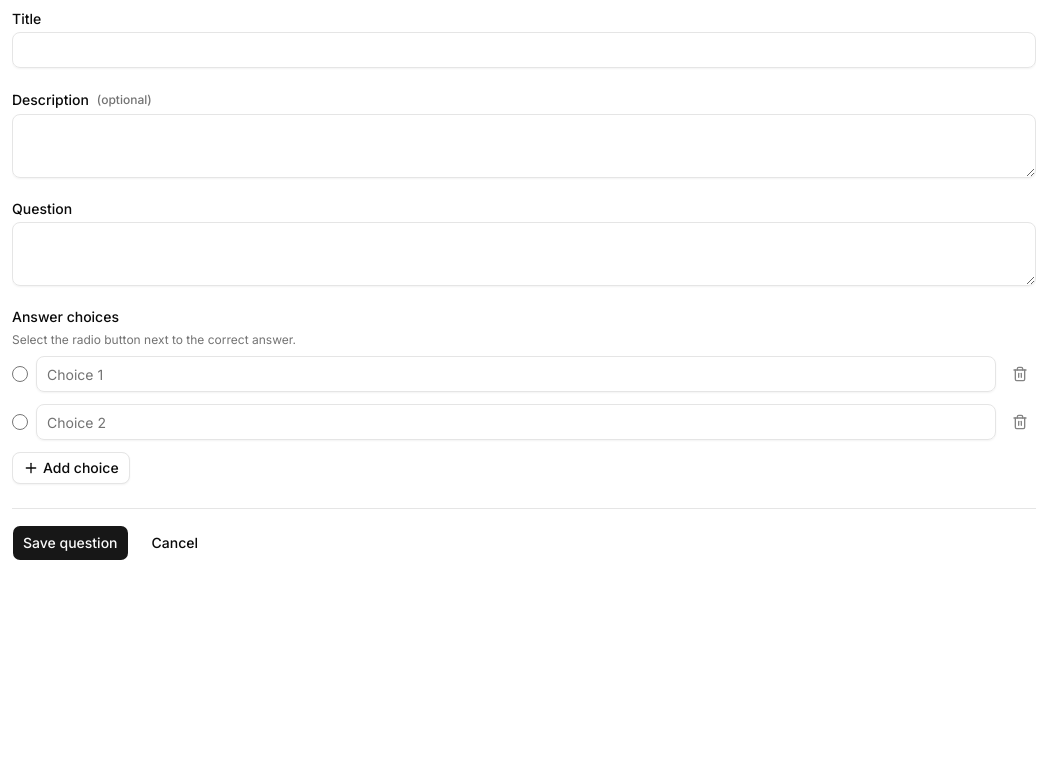
QuestionForm — AnswerChoiceList behaviour › removes a choice when its Remove button is clicked
Step 1. Click the button "Add choice" → (71, 468), box x1=12 y1=452 x2=130 y2=484
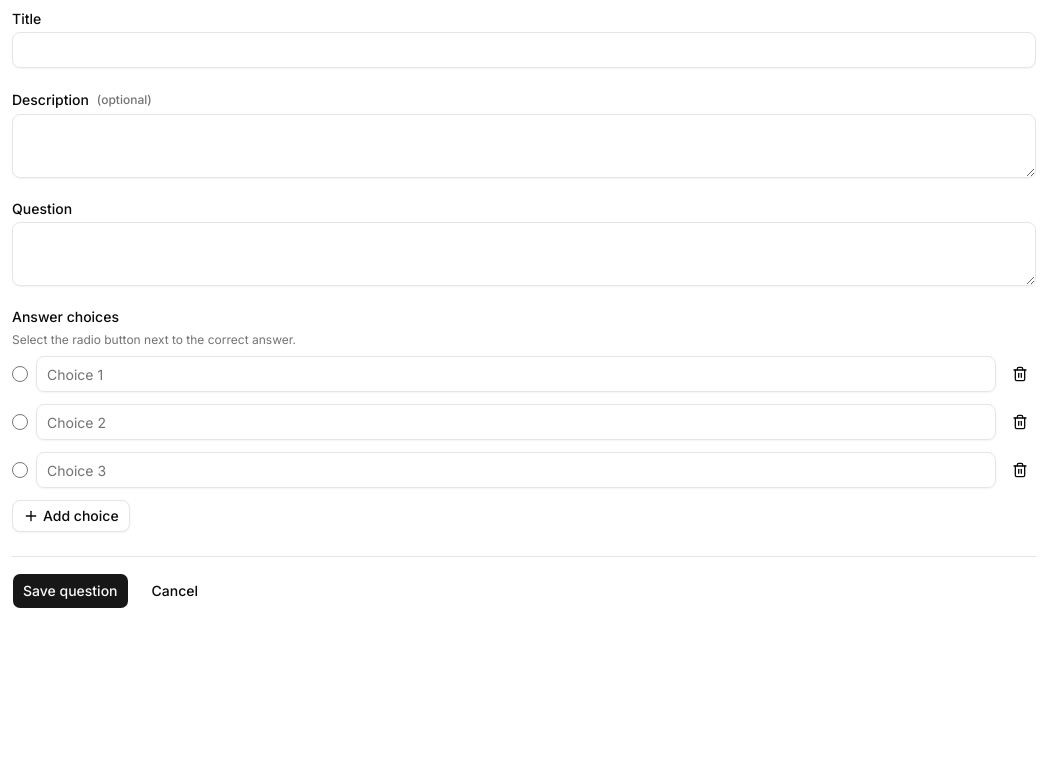
Check: the number of fields labelled "Choice 1" is 3, box x1=36 y1=356 x2=996 y2=392; x1=36 y1=404 x2=996 y2=440; x1=36 y1=452 x2=996 y2=488
Step 2. Click the button named "remove choice" → (1020, 374), box x1=1004 y1=358 x2=1036 y2=390
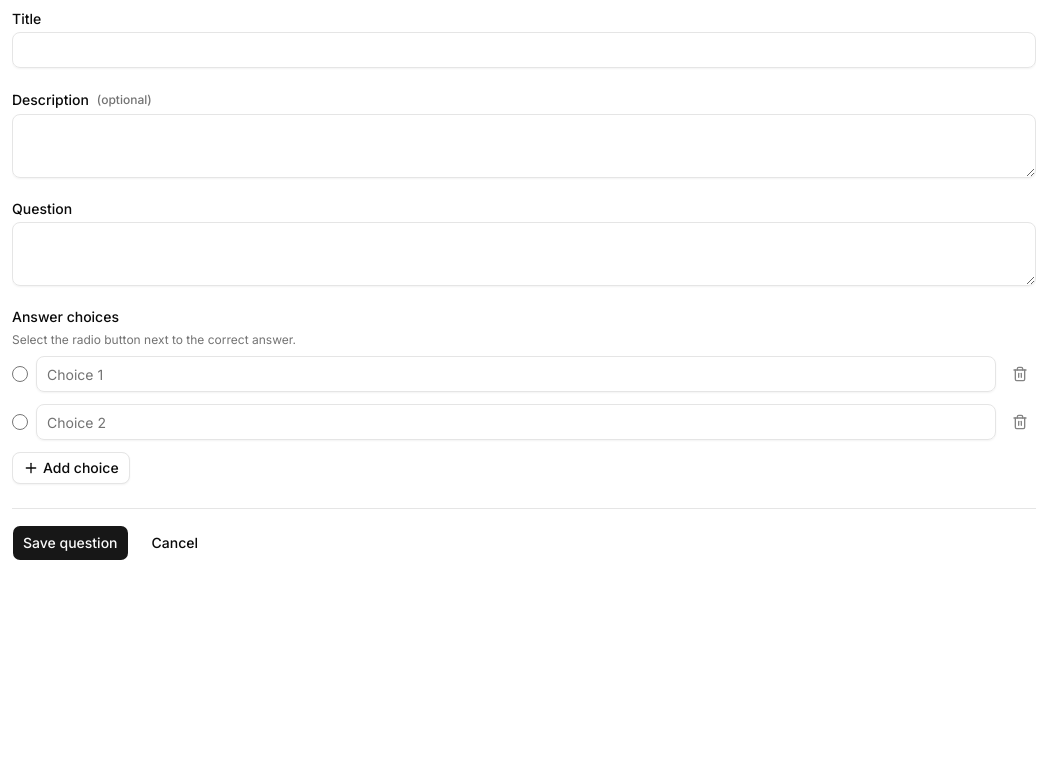
Check: the number of fields labelled "Choice 1" is 2, box x1=36 y1=356 x2=996 y2=392; x1=36 y1=404 x2=996 y2=440
